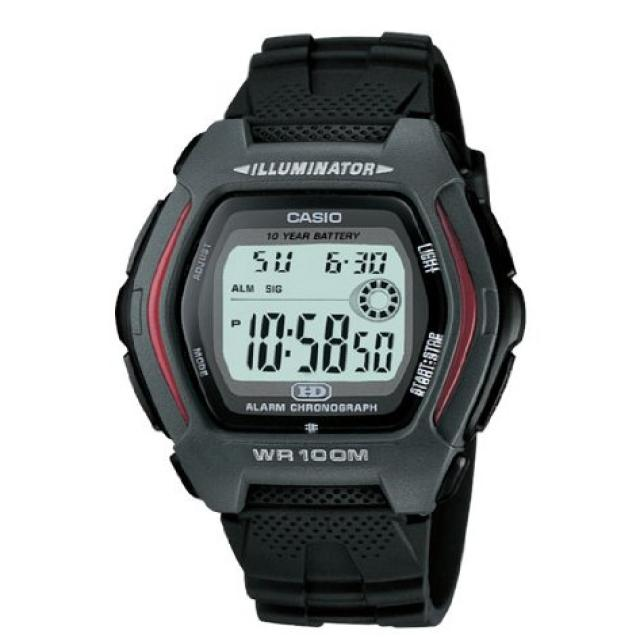watch: (174, 186, 459, 470)
